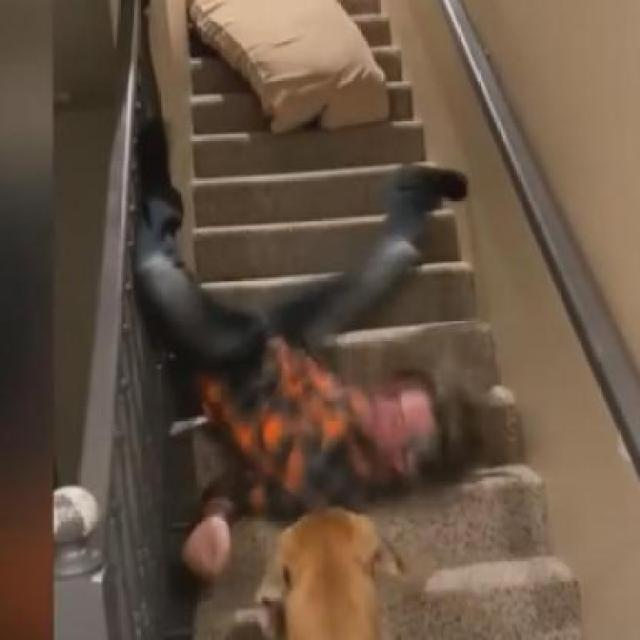fall: (137, 118, 489, 578)
